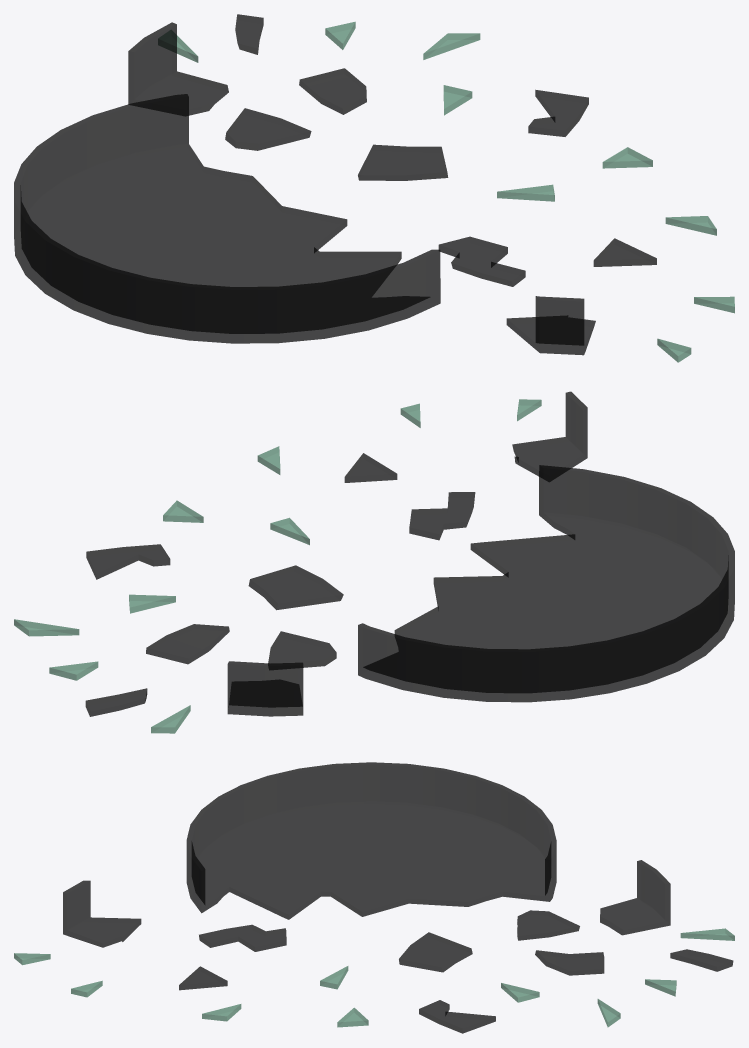
The model's file is PetriDishShattered.FBX.
3 renders of one model, top to bottom at view 1: azimuth 30°, elevation 25°; view 2: azimuth 150°, elevation 25°; view 3: azimuth 270°, elevation 25°, orthographic. The views are drawn at different scales.
Visible parts, largest first — view 1: Box005; view 2: Box005; view 3: Box005.
Boxes of the visible parts, <box> form: Box005: <box>14,14,734,362</box>; Box005: <box>14,391,734,733</box>; Box005: <box>14,762,734,1033</box>.
Bounding box in the file's own units: 168 × 14.63 × 223.
